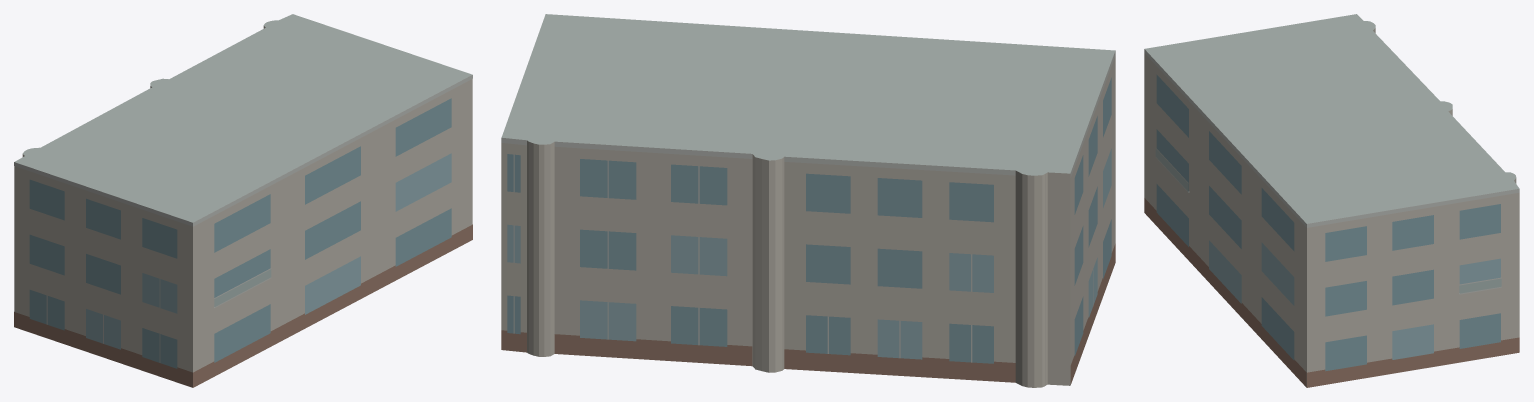
File: survey-upis-32884173.glb
3 views of the same model, side by side, from view 1: azimuth 30°, elevation 25°; view 2: azimuth 150°, elevation 25°; view 3: azimuth 270°, elevation 25° (orthographic). The views are drawn at different scales.
Parts seen in each view (by area): view 1: survey-upis-32884173.tmp; view 2: survey-upis-32884173.tmp; view 3: survey-upis-32884173.tmp.
Boxes of the visible parts, x1,y1,x2,y2 form: survey-upis-32884173.tmp: (14,14,472,387); survey-upis-32884173.tmp: (501,14,1115,387); survey-upis-32884173.tmp: (1144,14,1519,387).
Bounding box in the file's own units: 27.75 × 10.1 × 20.96.
